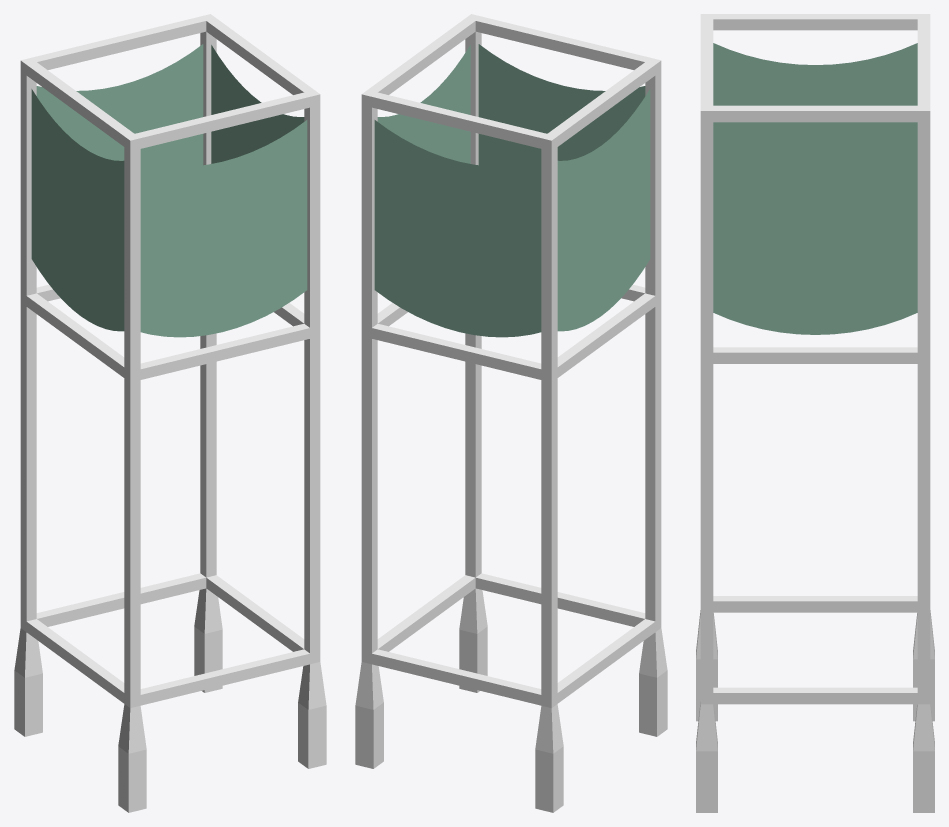
File: bannerTowerGreen.glb
The picture shows the model from 3 angles, left to right: view 1: azimuth 30°, elevation 25°; view 2: azimuth 150°, elevation 25°; view 3: azimuth 270°, elevation 25°; orthographic projection. The views are drawn at different scales.
Parts seen in each view (by area): view 1: bannerTowerGreen(Clone); view 2: bannerTowerGreen(Clone); view 3: bannerTowerGreen(Clone).
Part boxes in pixels (x1,y1,x2,y2): bannerTowerGreen(Clone): (14,14,326,812); bannerTowerGreen(Clone): (355,14,667,812); bannerTowerGreen(Clone): (696,14,934,812).
Size of the model in its own units: 0.3852 by 1.25 by 0.3852.
